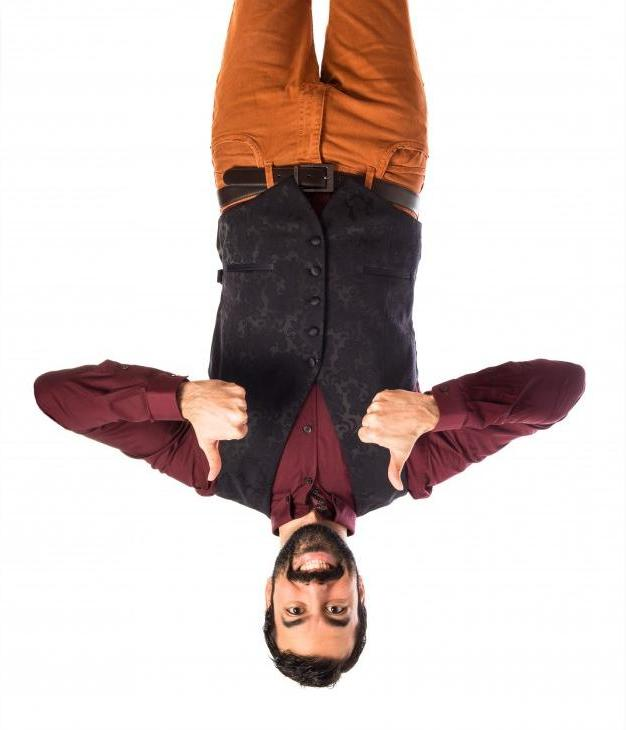thumbsdown: (357, 390, 408, 491), (205, 382, 248, 482)
